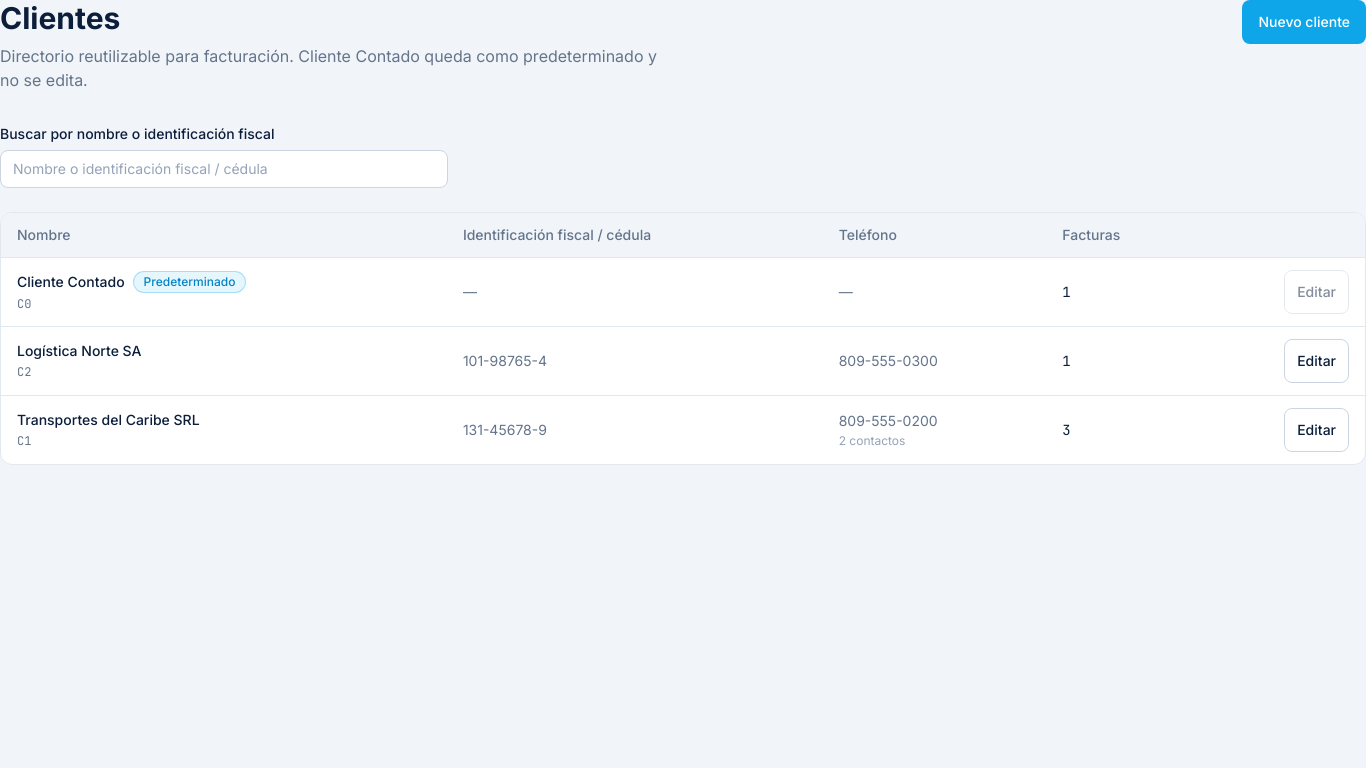
CustomersPage › creates a customer and refreshes the directory
Expected: the text "Transportes del Caribe SRL" is shown, x1=17 y1=410 x2=200 y2=430
Click the button "Nuevo cliente" at (1304, 22), box x1=1242 y1=0 x2=1365 y2=44
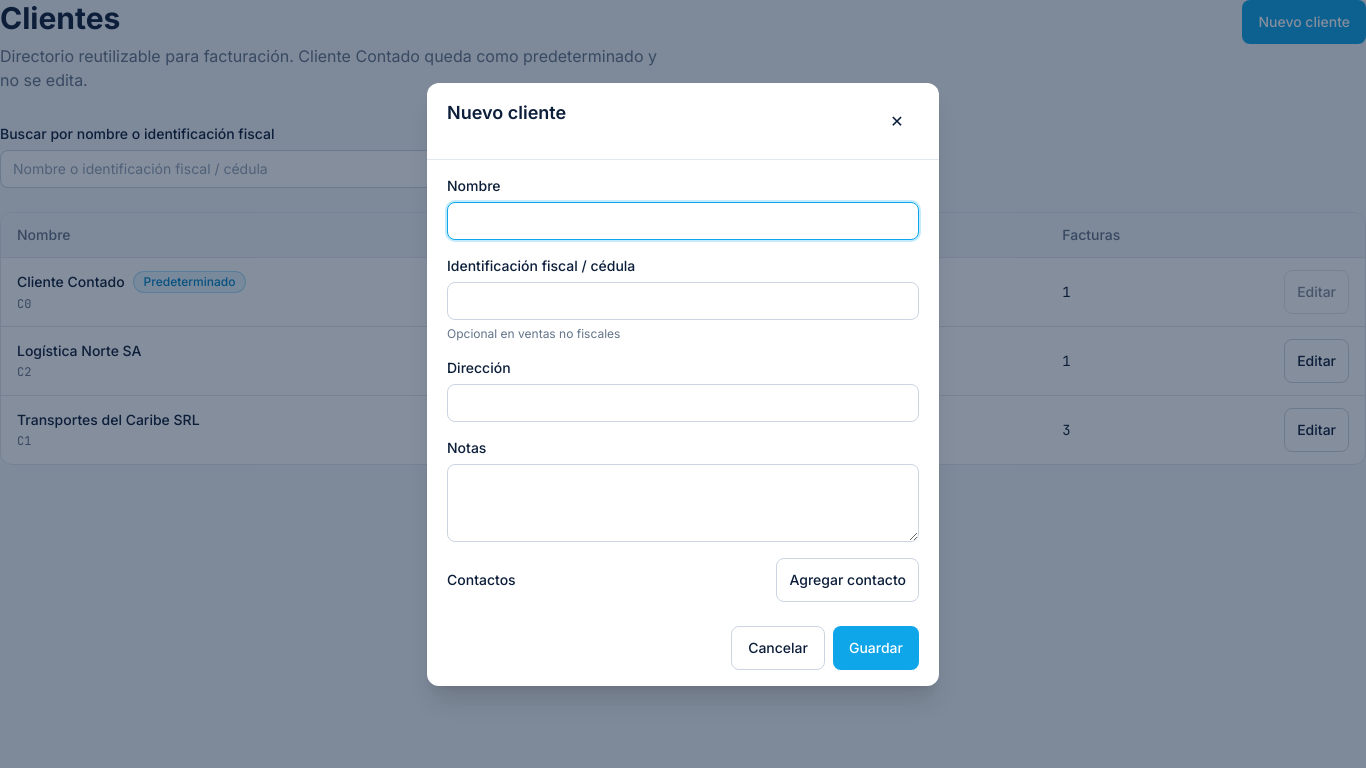
Type "Flota Este" into the field labelled "Nombre" at (683, 220), box x1=447 y1=202 x2=919 y2=240
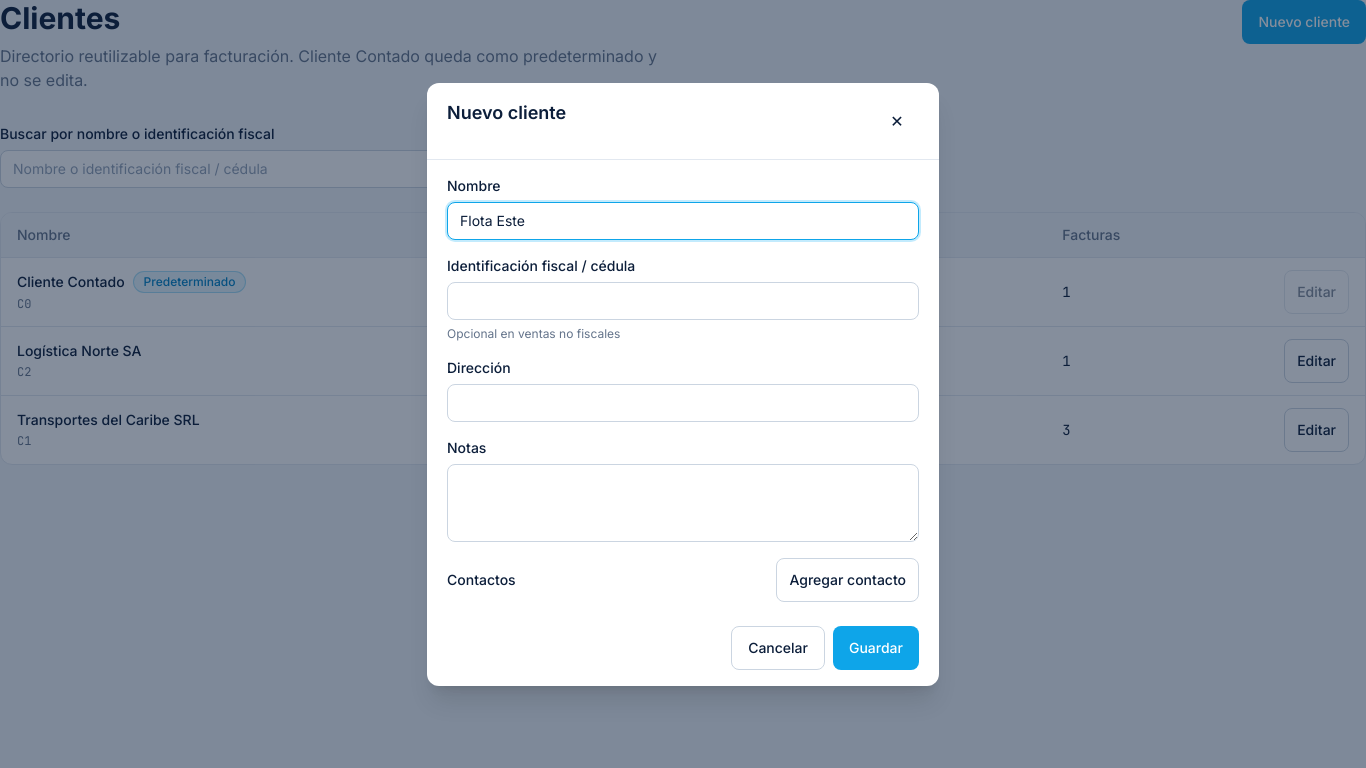
Click the button "Guardar" at (876, 648), box x1=833 y1=626 x2=919 y2=670
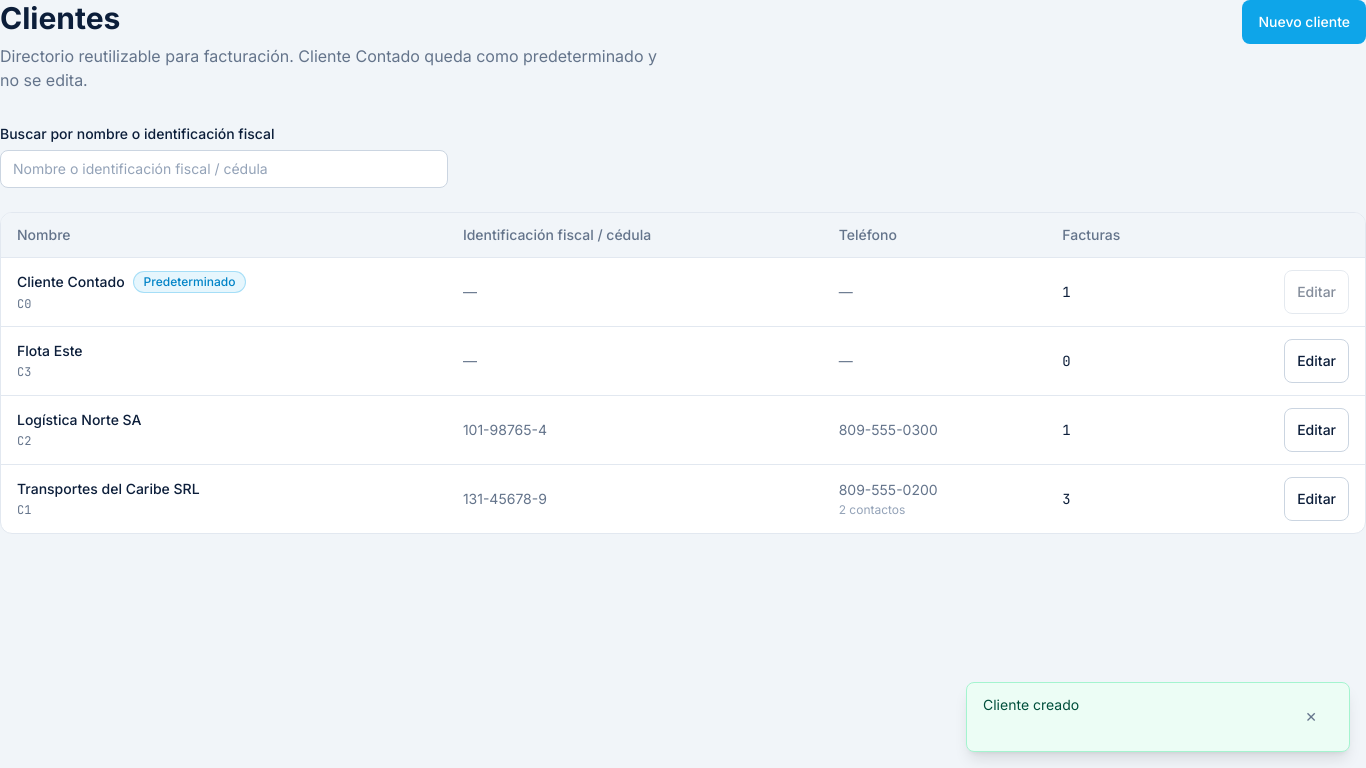
Result: the text "Cliente creado" is shown at x1=983 y1=696 x2=1079 y2=713
Result: the text "Flota Este" is shown at x1=17 y1=341 x2=83 y2=361
